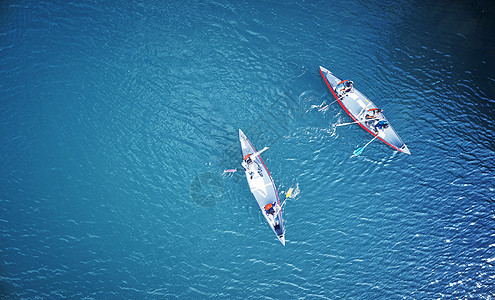ship: (220, 126, 305, 251), (314, 64, 417, 160)
